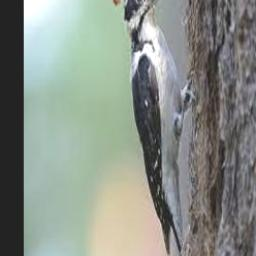Woodpecker: (113, 0, 195, 256)
